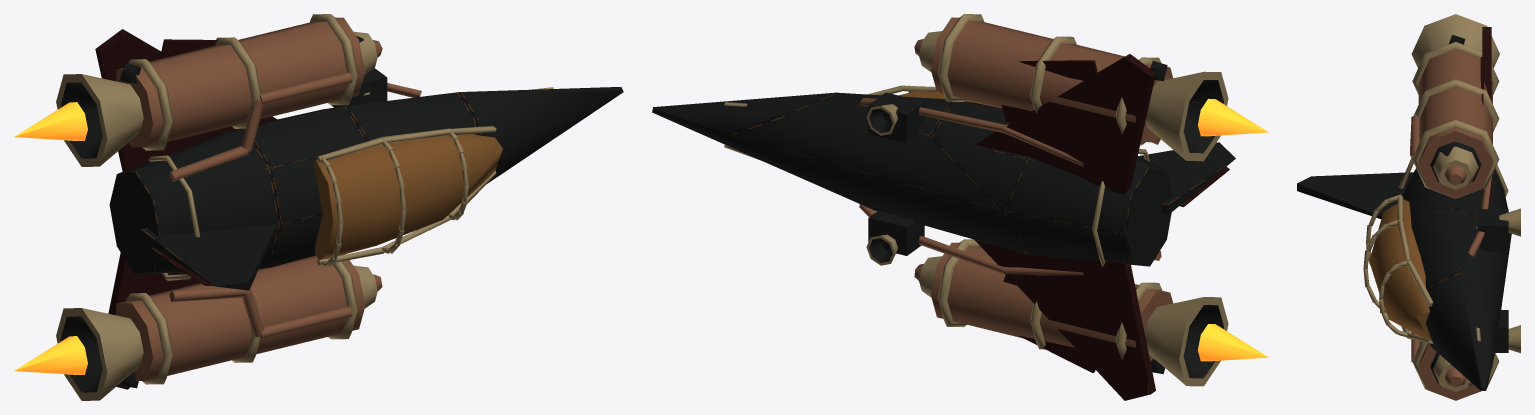
File: rocket-low.glb
3 renders of one model, left to right at view 1: azimuth 30°, elevation 25°; view 2: azimuth 150°, elevation 25°; view 3: azimuth 270°, elevation 25°, orthographic. The views are drawn at different scales.
Parts seen in each view (by area): view 1: rocket-root.001 / Riveted iron.001, rocket-root.001 / Copper feed lines.001, rocket-root.001 / Machined brass.001, rocket-root.001 / Amber glazing.001, rocket-root.001 / Burgundy enamel.001, Engine exhaust.002 / Furnace glow.001, Engine exhaust.003 / Furnace glow.001; view 2: rocket-root.001 / Riveted iron.001, rocket-root.001 / Burgundy enamel.001, rocket-root.001 / Copper feed lines.001, rocket-root.001 / Machined brass.001, Engine exhaust.003 / Furnace glow.001, Engine exhaust.002 / Furnace glow.001; view 3: rocket-root.001 / Riveted iron.001, rocket-root.001 / Machined brass.001, rocket-root.001 / Copper feed lines.001, rocket-root.001 / Amber glazing.001, rocket-root.001 / Burgundy enamel.001.
Boxes of the visible parts, left/top/right/bottom form: rocket-root.001 / Riveted iron.001: left=60, top=35, right=623, bottom=392; rocket-root.001 / Copper feed lines.001: left=116, top=17, right=421, bottom=381; rocket-root.001 / Machined brass.001: left=56, top=14, right=553, bottom=400; rocket-root.001 / Amber glazing.001: left=313, top=134, right=502, bottom=259; rocket-root.001 / Burgundy enamel.001: left=95, top=29, right=277, bottom=389; Engine exhaust.002 / Furnace glow.001: left=14, top=336, right=87, bottom=374; Engine exhaust.003 / Furnace glow.001: left=14, top=102, right=87, bottom=140; rocket-root.001 / Riveted iron.001: left=652, top=60, right=1235, bottom=378; rocket-root.001 / Burgundy enamel.001: left=974, top=54, right=1229, bottom=400; rocket-root.001 / Copper feed lines.001: left=859, top=17, right=1173, bottom=366; rocket-root.001 / Machined brass.001: left=724, top=14, right=1228, bottom=386; Engine exhaust.003 / Furnace glow.001: left=1198, top=98, right=1268, bottom=136; Engine exhaust.002 / Furnace glow.001: left=1198, top=324, right=1268, bottom=361; rocket-root.001 / Riveted iron.001: left=1297, top=34, right=1511, bottom=390; rocket-root.001 / Machined brass.001: left=1363, top=14, right=1520, bottom=400; rocket-root.001 / Copper feed lines.001: left=1410, top=44, right=1492, bottom=400; rocket-root.001 / Amber glazing.001: left=1369, top=199, right=1431, bottom=341; rocket-root.001 / Burgundy enamel.001: left=1480, top=27, right=1491, bottom=202.
Bounding box in the file's own units: 1.71 × 0.9326 × 0.6133.
Materials: 6 (2 with a texture image).
